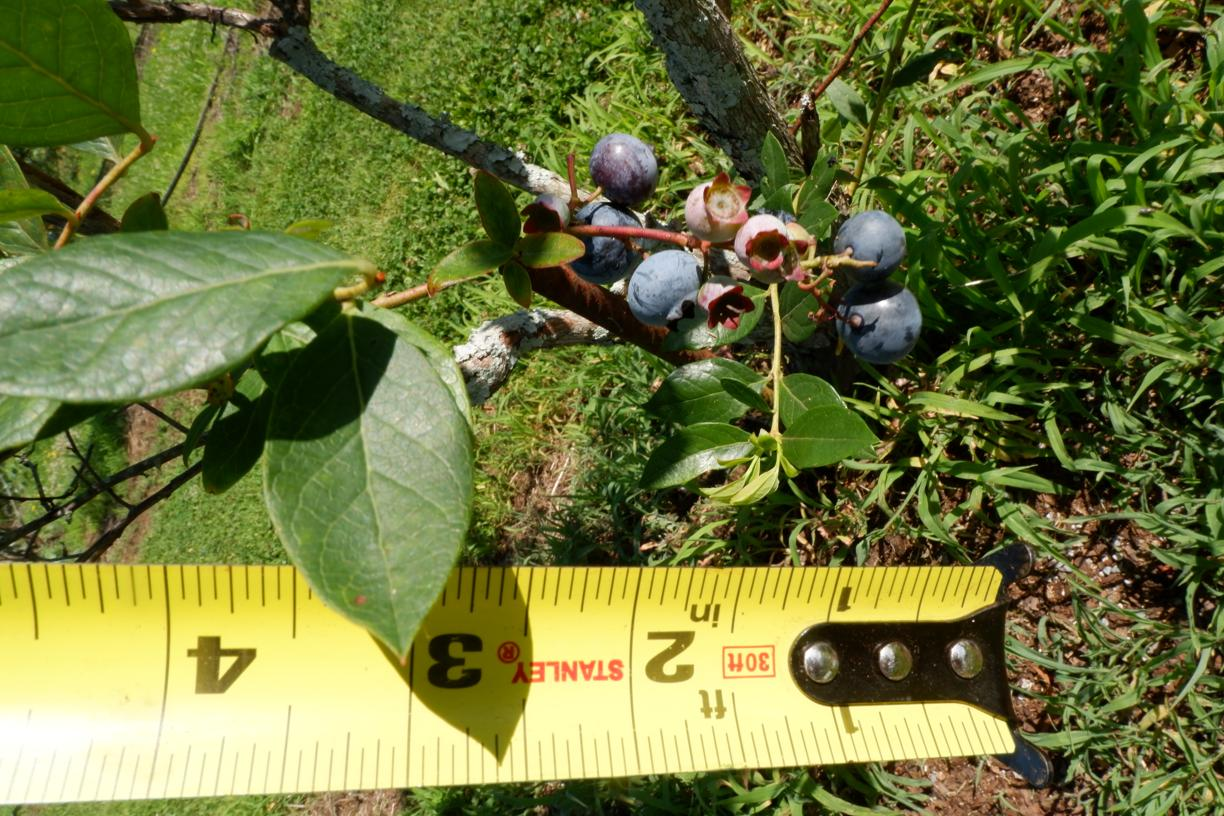Immature: (685, 172, 752, 243), (734, 214, 790, 271), (697, 274, 755, 329), (749, 239, 804, 286), (786, 223, 810, 261)
Mature: (836, 278, 924, 364), (628, 249, 709, 333), (567, 202, 644, 284), (834, 209, 906, 283), (590, 134, 659, 207), (521, 191, 569, 233)
